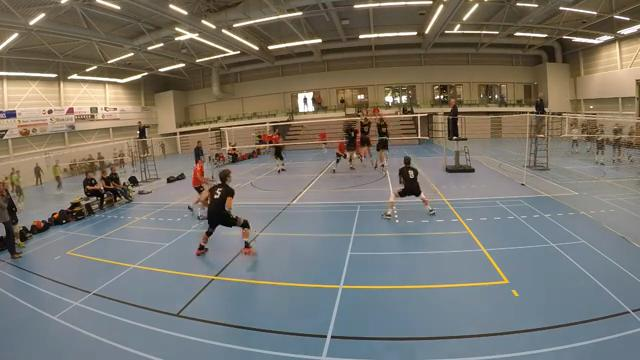muro: (371, 108, 390, 171), (354, 108, 371, 166)
